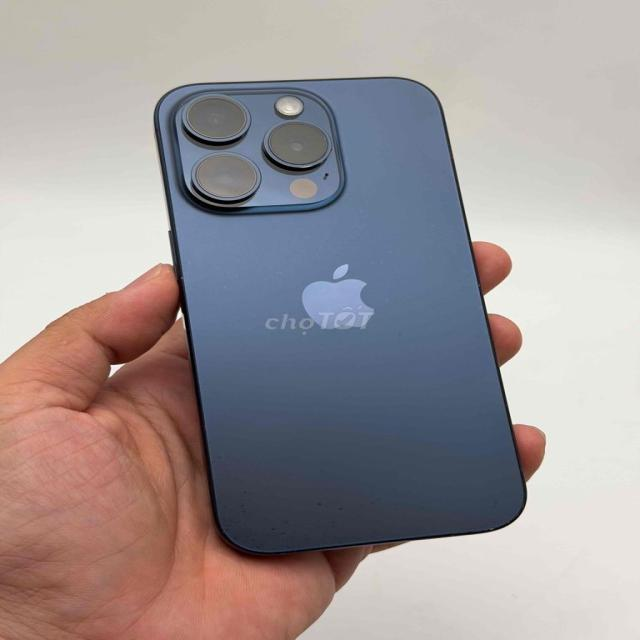gen_15: (145, 69, 537, 556)
screen_defect: (204, 484, 533, 546)
